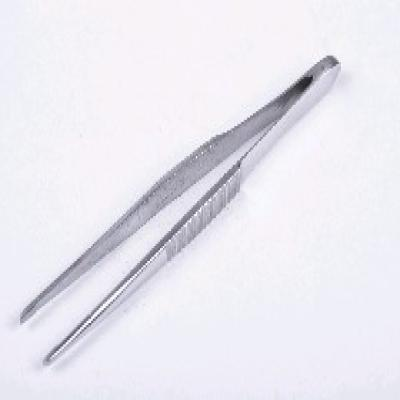technique: (20, 56, 341, 370)
